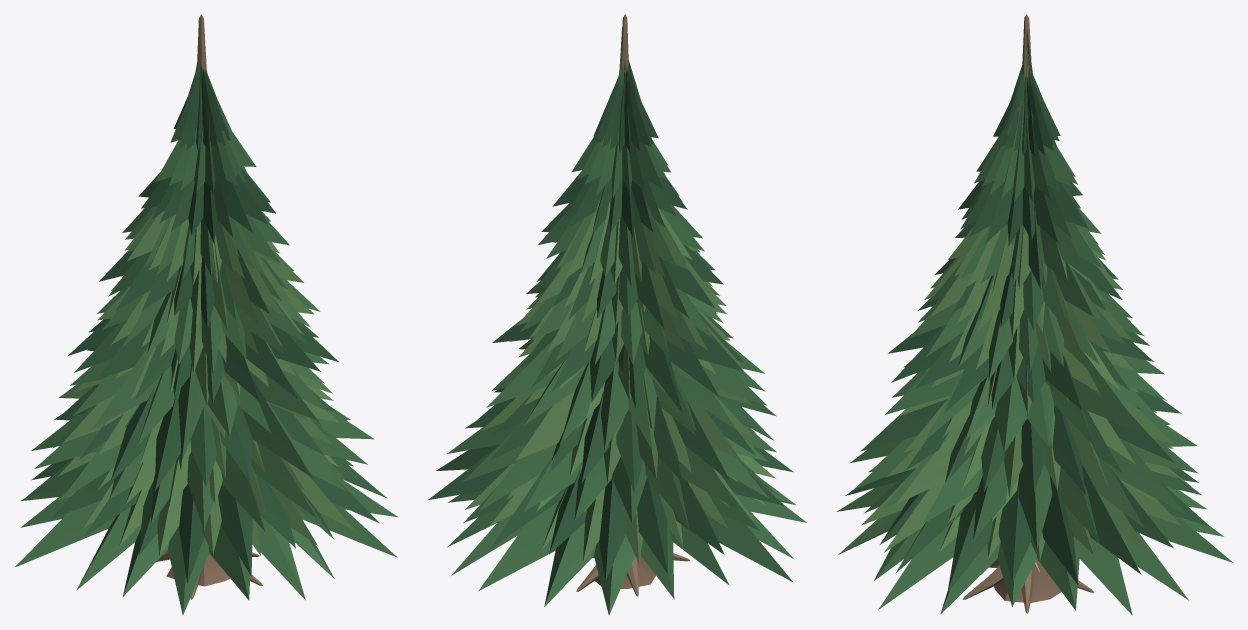
The model's file is tree_pine.glb.
3 renders of one model, left to right at view 1: azimuth 30°, elevation 25°; view 2: azimuth 150°, elevation 25°; view 3: azimuth 270°, elevation 25°, orthographic. The views are drawn at different scales.
Visible parts, largest first — view 1: Body; view 2: Body; view 3: Body.
Boxes of the visible parts, x1,y1,x2,y2 form: Body: (15, 14, 397, 615); Body: (428, 14, 806, 615); Body: (836, 14, 1233, 615).
Size of the model in its own units: 4.71 by 7.39 by 4.63.
